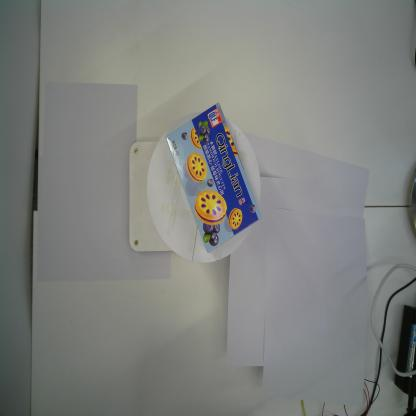Dessert: (165, 102, 263, 254)
